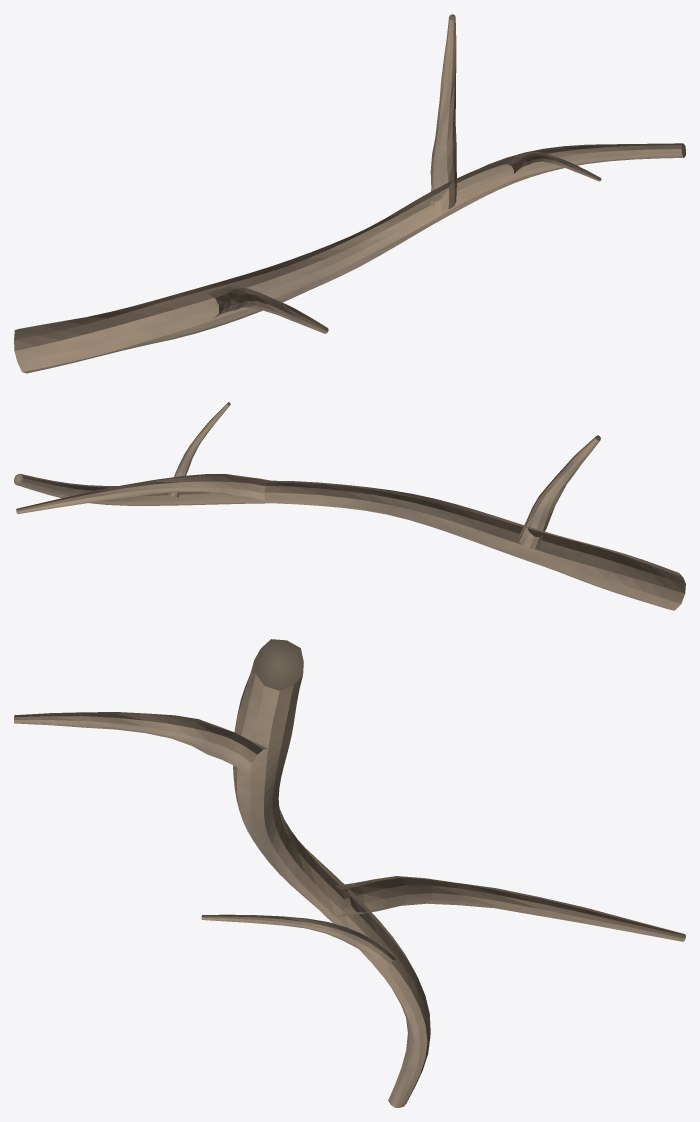
File: stick_forest_03_crooked.glb
3 renders of one model, top to bottom at view 1: azimuth 30°, elevation 25°; view 2: azimuth 150°, elevation 25°; view 3: azimuth 270°, elevation 25°, orthographic. The views are drawn at different scales.
Parts seen in each view (by area): view 1: stick_forest_03_crooked; view 2: stick_forest_03_crooked; view 3: stick_forest_03_crooked.
Boxes of the visible parts, left/top/right/bottom form: stick_forest_03_crooked: left=14, top=14, right=685, bottom=373; stick_forest_03_crooked: left=14, top=402, right=685, bottom=610; stick_forest_03_crooked: left=14, top=639, right=685, bottom=1107.
Size of the model in its own units: 0.5833 by 0.0724 by 0.3862.
